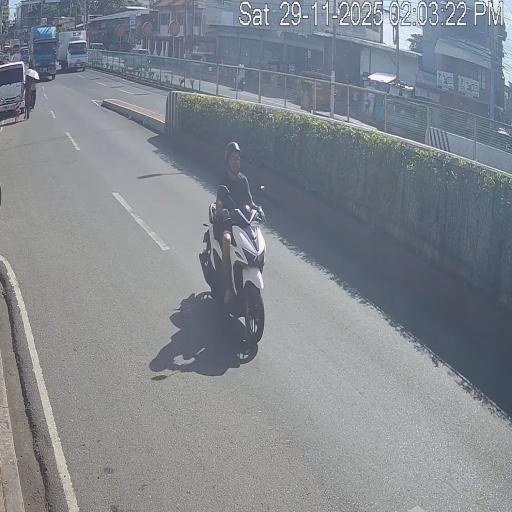Helmet: (225, 141, 241, 161)
Motor: (225, 204, 266, 343), (198, 202, 226, 300)
